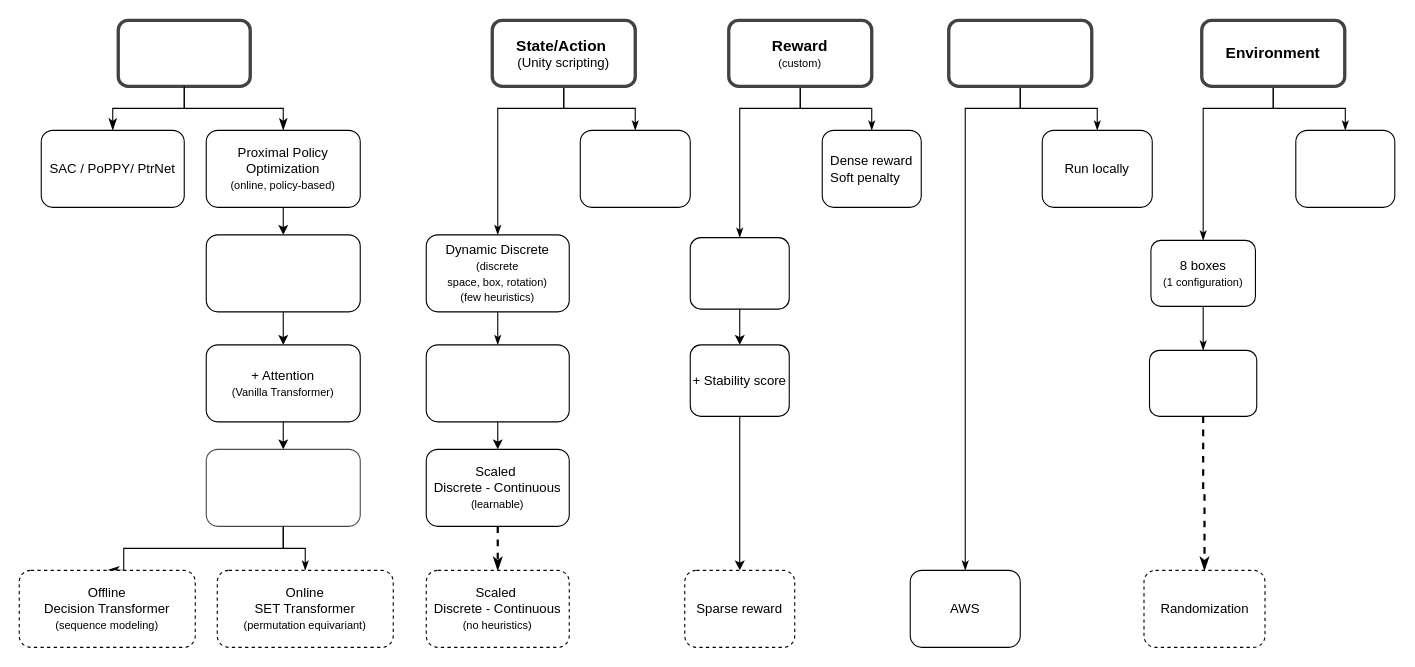
Some shapes in this 1415 by 667 pixel diagram are drawn without their labels. The centre of each missing label's shape, as x and y in pixels:
+ Curriculum Learning + RNNs + Hyperparameter tuning: pixel 282 273
30 boxes (4 configurations): pixel 1202 382
48 boxes (too complex): pixel 1345 168
Dense reward Hard penalty: pixel 739 273
MeshNavigation or RayCast: pixel 634 168
Multi-Agent Learning: pixel 282 487
Performance: pixel 1020 52
Policy (ML-Agents): pixel 183 52
Scaled Dynamic Discrete (generalizable): pixel 497 383
